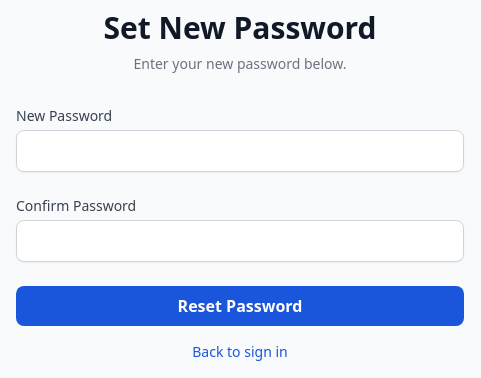
Reset Password Page › shows success on valid reset
The width and height of the screenshot is (481, 378).
Step 1. Type "NewPassword123!" into the password field labelled "New Password" → [240, 151], box [16,130,464,172]
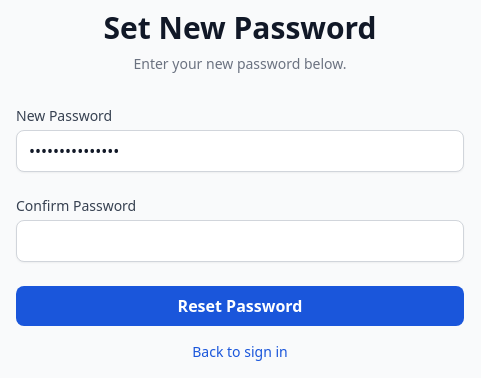
Step 2. Type "NewPassword123!" into the password field labelled "Confirm Password" → [240, 241], box [16,220,464,262]
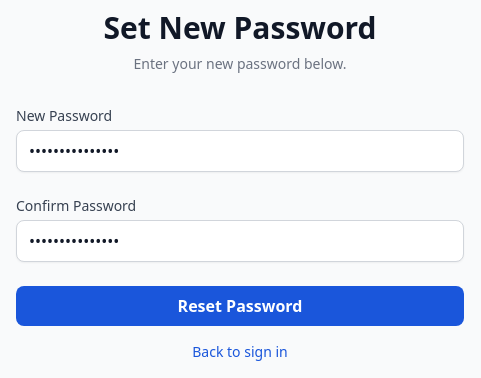
Step 3. Click the button "Reset Password" → [240, 306], box [16,286,464,326]
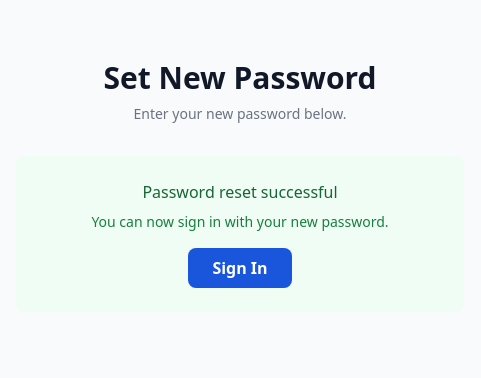
Check: the text "Password reset successful" is shown, box [142,181,338,203]
